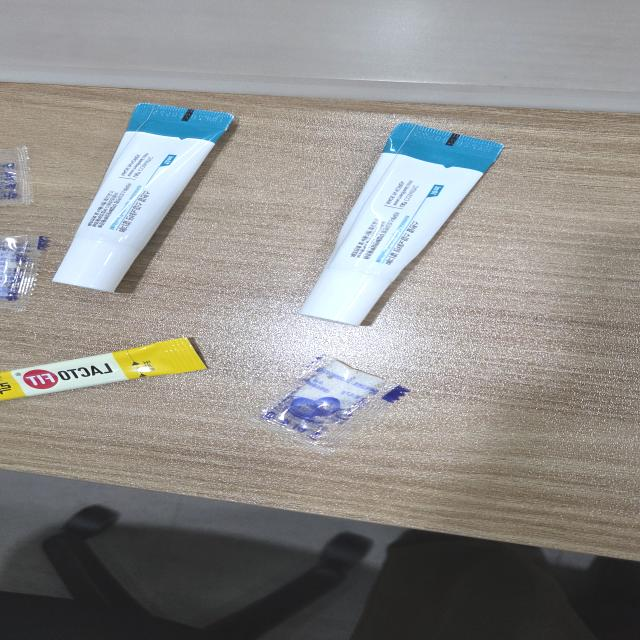lacto: (0, 331, 213, 417)
lib: (295, 122, 521, 333), (51, 103, 238, 294)
salt: (247, 351, 424, 460), (0, 230, 57, 311), (0, 136, 37, 220)
